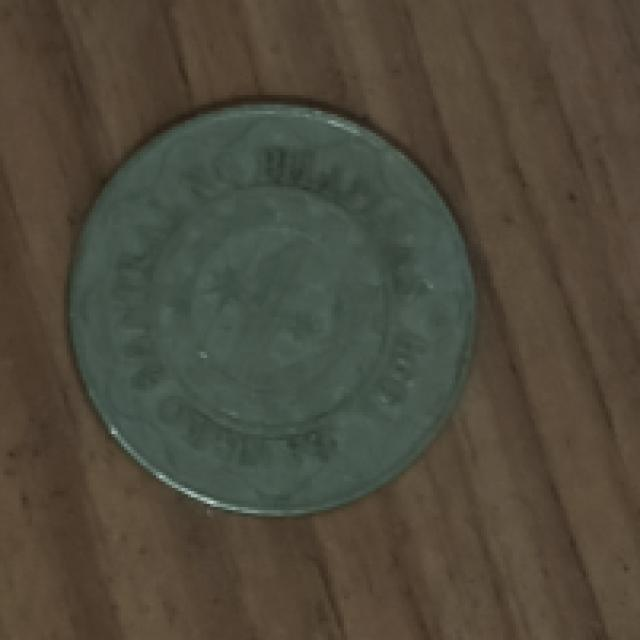5_peso: (80, 105, 471, 513)
